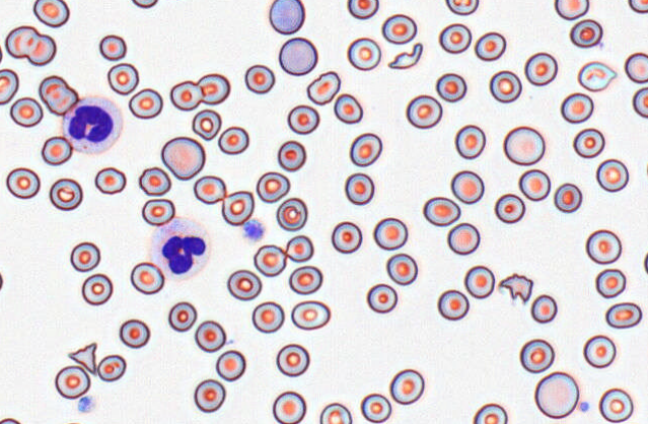GRAN: (149, 216, 210, 280), (60, 95, 125, 154)
PLT: (244, 219, 266, 243), (77, 395, 97, 414), (577, 401, 591, 414)
RBC: (534, 371, 579, 419), (4, 25, 56, 66), (160, 136, 205, 180), (503, 125, 545, 165), (38, 75, 78, 115), (278, 36, 318, 75), (585, 229, 622, 264), (389, 368, 424, 404), (268, 0, 305, 34), (405, 94, 442, 128), (519, 338, 554, 373), (598, 387, 633, 422), (54, 365, 90, 399), (290, 300, 330, 330), (306, 70, 340, 105), (450, 170, 484, 204), (595, 158, 629, 192), (221, 190, 254, 225), (346, 37, 381, 70), (422, 196, 460, 226), (130, 261, 164, 294), (276, 343, 309, 377), (272, 390, 306, 423), (583, 334, 616, 368), (373, 217, 407, 250), (524, 52, 557, 86), (349, 132, 382, 166), (128, 87, 163, 119), (193, 378, 225, 413), (381, 13, 417, 44), (49, 177, 82, 210), (256, 171, 290, 203), (6, 167, 40, 199), (226, 269, 261, 300), (454, 124, 485, 159), (253, 244, 286, 276), (107, 62, 139, 95), (518, 168, 550, 201), (251, 301, 284, 333), (447, 222, 480, 254), (196, 73, 230, 104), (9, 96, 43, 127), (276, 197, 307, 231), (194, 320, 226, 352), (81, 273, 113, 305), (489, 70, 521, 102), (169, 80, 202, 111), (464, 265, 495, 298), (560, 92, 593, 123), (32, 0, 69, 27), (605, 301, 642, 328), (386, 253, 417, 285), (437, 289, 469, 320), (573, 127, 605, 158), (331, 221, 362, 253), (138, 166, 171, 196), (344, 172, 374, 205), (438, 23, 471, 53), (288, 265, 322, 294), (215, 349, 245, 381), (287, 104, 319, 134), (474, 31, 506, 61), (193, 175, 226, 204), (569, 18, 602, 47), (141, 198, 175, 226), (70, 241, 100, 272), (119, 318, 150, 348), (360, 393, 391, 423), (494, 193, 525, 223), (366, 283, 397, 313), (595, 268, 626, 298), (435, 72, 466, 102), (244, 64, 275, 94), (217, 125, 249, 154), (333, 93, 363, 123), (41, 136, 72, 165), (168, 301, 197, 332), (277, 140, 306, 171), (553, 182, 582, 213), (94, 166, 126, 194), (96, 354, 126, 382), (285, 234, 313, 262), (530, 294, 557, 323), (624, 52, 647, 83), (99, 34, 126, 60), (472, 403, 507, 423), (554, 0, 589, 20), (319, 402, 352, 423), (0, 68, 19, 104), (347, 0, 378, 19), (445, 0, 478, 15), (632, 86, 647, 118), (628, 0, 647, 13), (131, 0, 158, 8), (0, 417, 21, 424), (643, 250, 648, 274), (0, 269, 3, 291), (164, 0, 193, 2)
Schistocyte: (496, 272, 535, 304), (577, 61, 617, 92), (67, 342, 100, 378), (386, 42, 423, 70), (191, 109, 222, 141)
